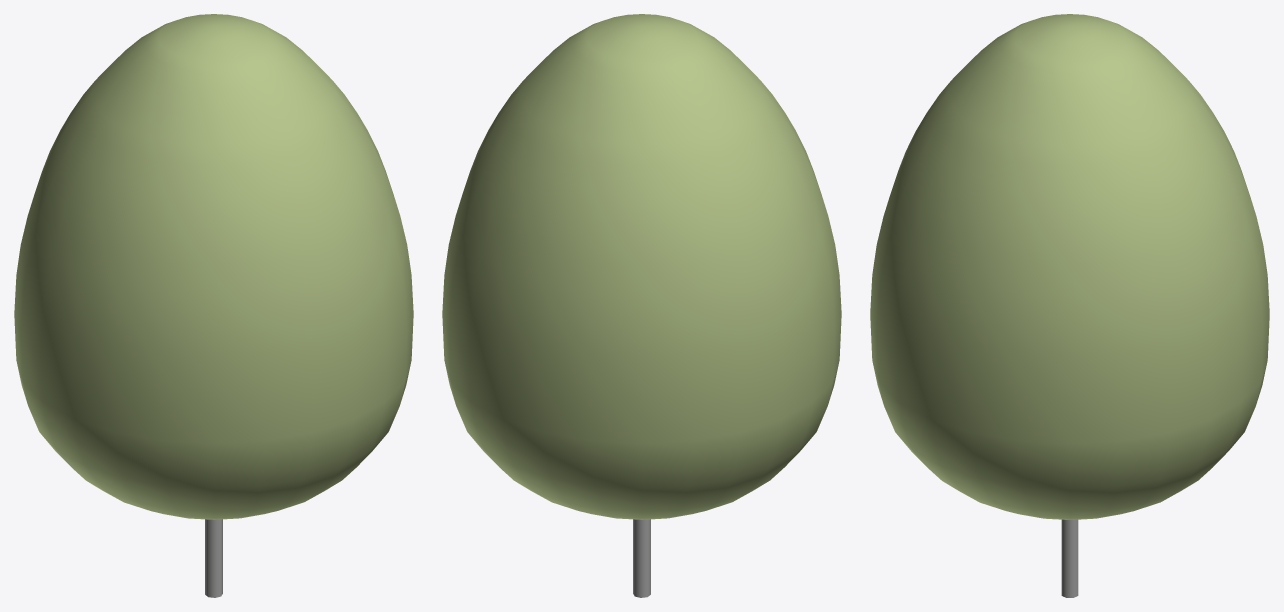
Rendered from AcerPlatanoides.glb.
The picture shows the model from 3 angles, left to right: view 1: azimuth 30°, elevation 25°; view 2: azimuth 150°, elevation 25°; view 3: azimuth 270°, elevation 25°; orthographic projection.
Visible parts, largest first — view 1: Norway_Maple__Schematic_LOD3; view 2: Norway_Maple__Schematic_LOD3; view 3: Norway_Maple__Schematic_LOD3.
Part boxes in pixels (<box>): Norway_Maple__Schematic_LOD3: <box>14,14,413,597</box>; Norway_Maple__Schematic_LOD3: <box>442,14,841,597</box>; Norway_Maple__Schematic_LOD3: <box>870,14,1269,597</box>.
Size of the model in its own units: 13.28 by 20.83 by 13.28.
